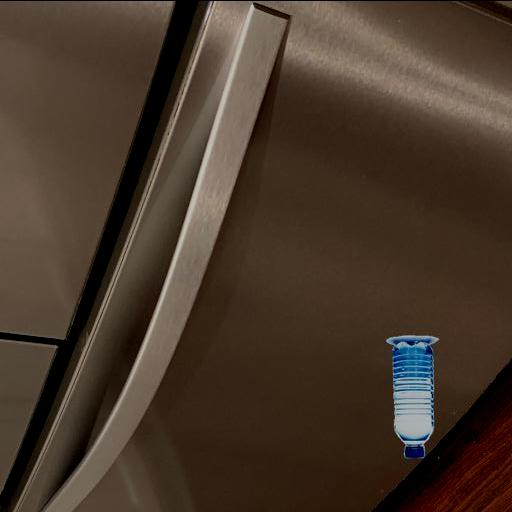bottle: (369, 327, 447, 464)
